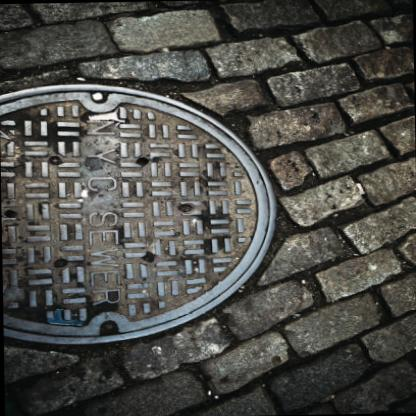manholes: (0, 56, 296, 362)
